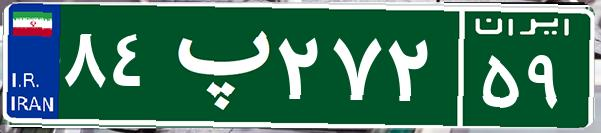2: (385, 28, 445, 110), (273, 28, 330, 110)
4: (110, 28, 158, 105)
5: (475, 38, 525, 113)
7: (330, 28, 385, 110)
8: (57, 26, 110, 107)
9: (525, 38, 570, 115)
پ: (158, 15, 273, 115)
